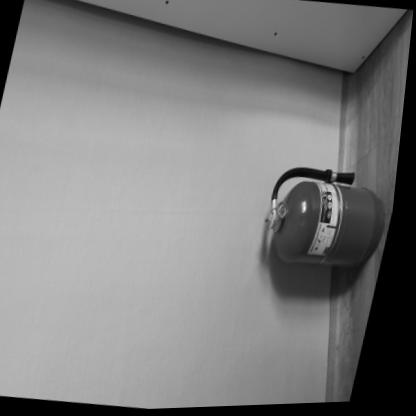FE: (260, 160, 400, 276)
